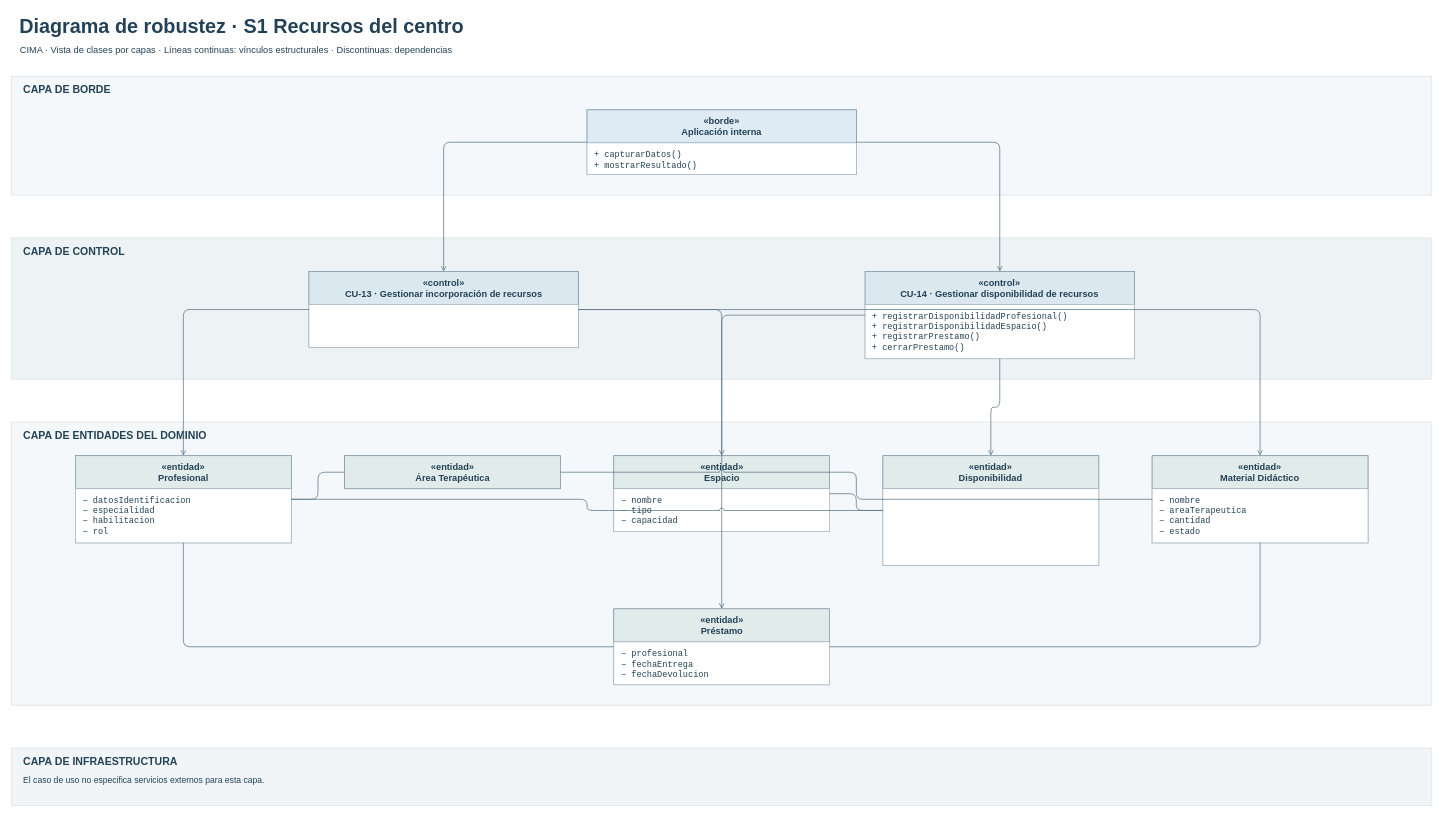
This 1443x817 diagram has some shape labels left out. The shapes that lost their labels are listed below. From the top down, each one's box as (x1, y1, x2, y2) in pixels, then its label:
(308, 304, 578, 347): + registrarProfesional() + registrarEspacio() + registrarMaterialDidactico()
(882, 488, 1099, 565): − dias − horaInicio − horaFin − ausencias − motivoAusencia − horasLibres
